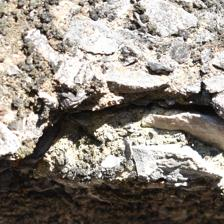Crack: (17, 81, 219, 173)
